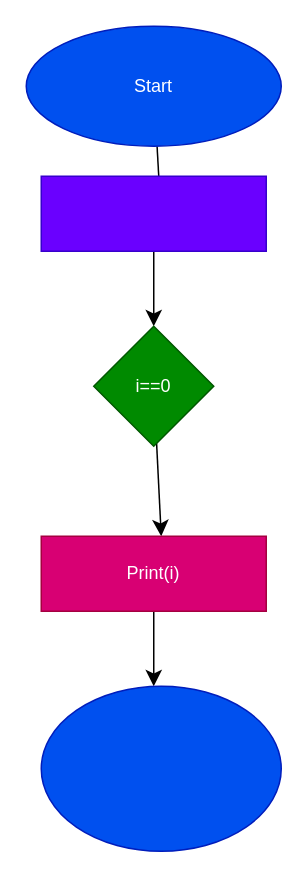
The diagram is 308 pixels wide and 878 high, and some of its shapes have lost their labels. The box of each missing label's shape, as (x1, y1, x2, y2) in pixels:
Int i=2: (40, 175, 266, 251)
Stop: (40, 685, 281, 851)
